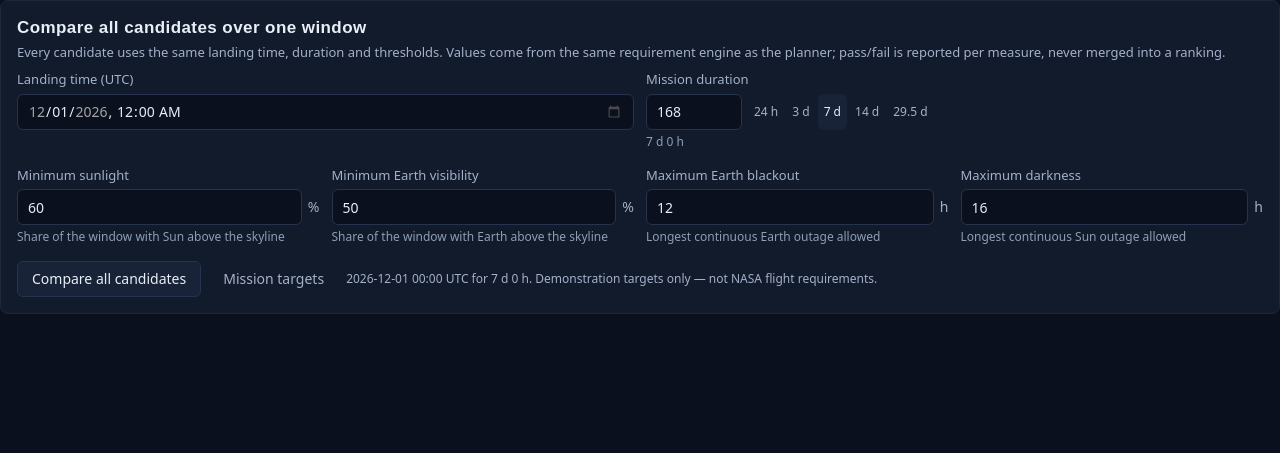
Test: CandidateComparison › surfaces a backend failure instead of showing stale or assumed values
What coordinates should you click on to do the following:
click the button "Compare all candidates"
I would click on:
 (109, 279)
Its box is [17,261,201,297].
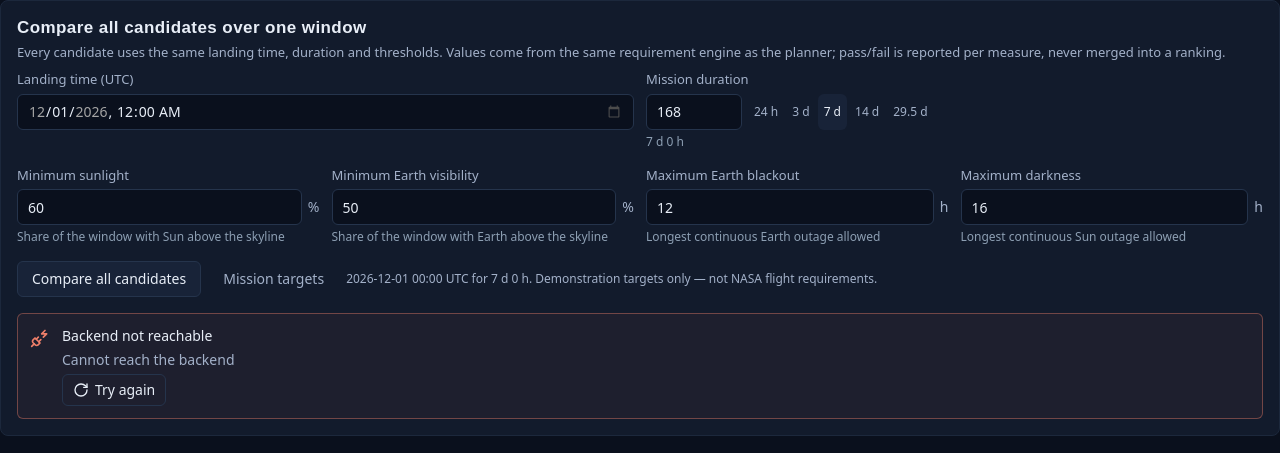
Expected: the text "Backend not reachable" is shown, [62,326,234,346]
